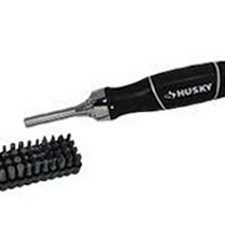Screwdriver: (28, 54, 225, 130)
